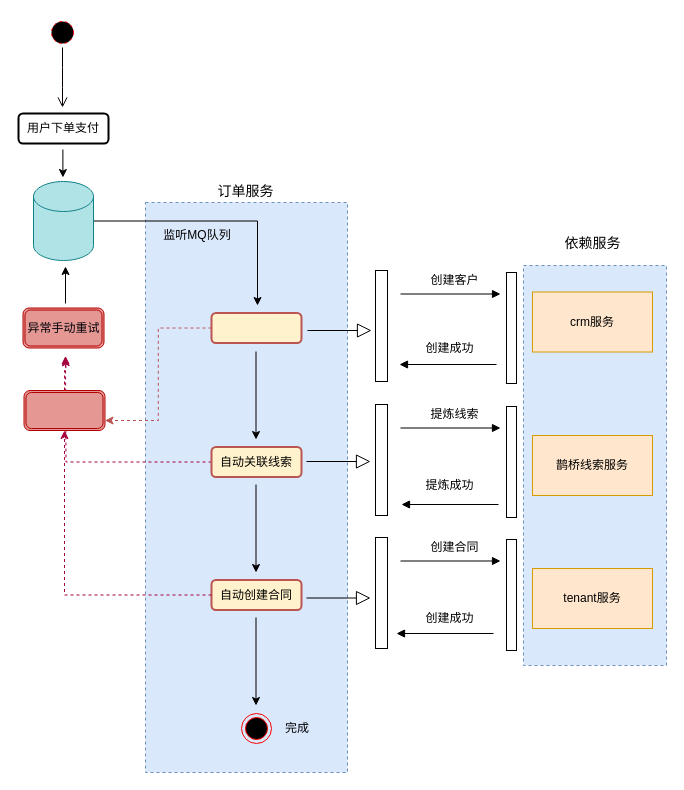
This 684x790 diagram has some shape labels left out. Here are the shapes that lost their labels. From the top down, the box of each, then its label:
(32, 180, 94, 260): mq
(210, 312, 302, 344): 自动创建客户
(23, 390, 105, 430): 系统异常告警
